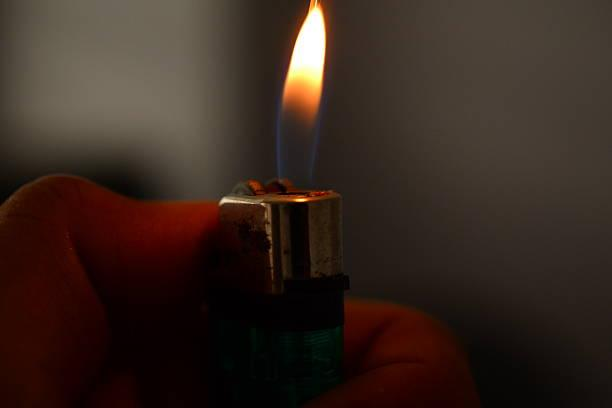Fire: (274, 0, 334, 179)
